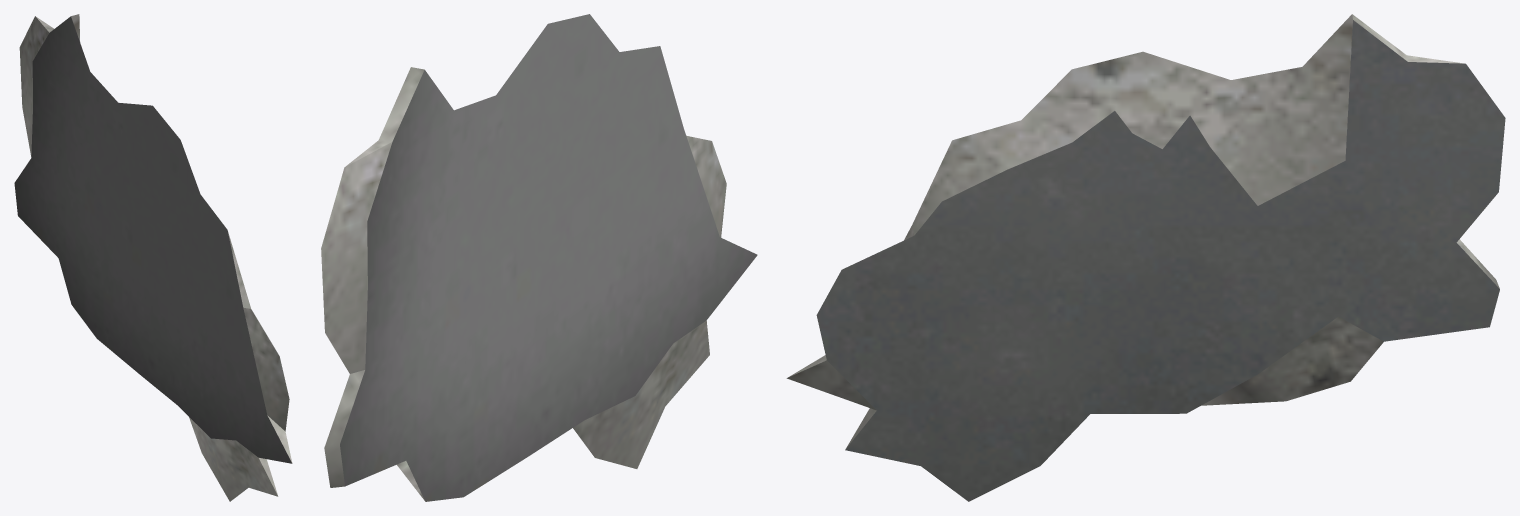
File: zombiebreakwallexteriorairportpart01_dm.glb
The picture shows the model from 3 angles, left to right: view 1: azimuth 30°, elevation 25°; view 2: azimuth 150°, elevation 25°; view 3: azimuth 270°, elevation 25°; orthographic projection. The views are drawn at different scales.
Parts seen in each view (by area): view 1: zombiebreakwallexteriorairportpart01_dm; view 2: zombiebreakwallexteriorairportpart01_dm; view 3: zombiebreakwallexteriorairportpart01_dm.
Part boxes in pixels (x1,y1,x2,y2): zombiebreakwallexteriorairportpart01_dm: [14, 14, 292, 501]; zombiebreakwallexteriorairportpart01_dm: [321, 14, 757, 501]; zombiebreakwallexteriorairportpart01_dm: [786, 14, 1505, 501].
Bounding box in the file's own units: 0.0142 × 0.5794 × 0.7826.
1 material, 1 textured.
